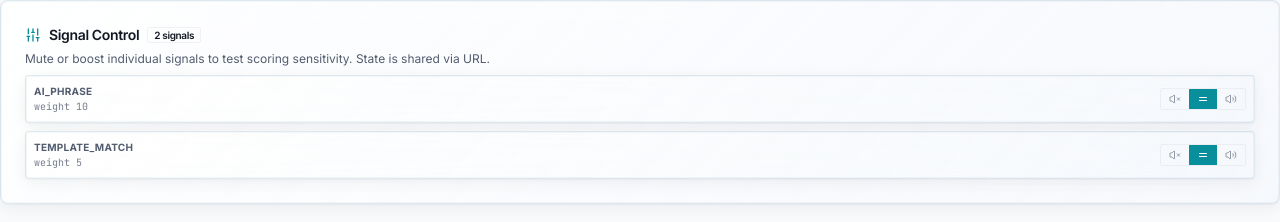
Test: SignalMuteBoostPanel what-if tooltips › shows just the mode label for the currently active button
Step 1. Hover over the button with test id "signal-mute-boost-ai_phrase-normal" → (1203, 99), box [1189,89,1217,109]
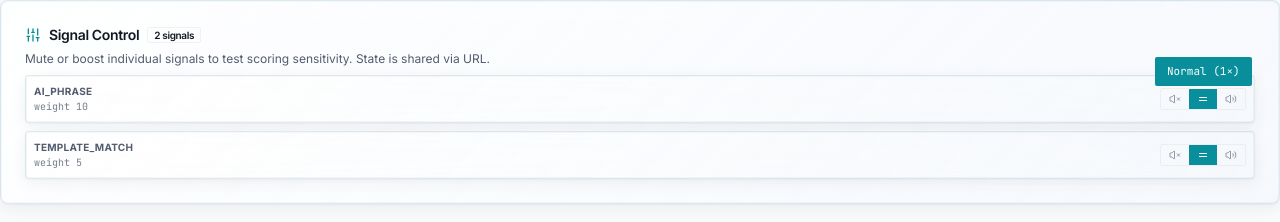
Result: the tooltip with test id "signal-whatif-tooltip-ai_phrase-normal" is shown at [1155,57,1252,86]
Result: the tooltip with test id "signal-whatif-tooltip-ai_phrase-normal" shows "Normal" at [1167,64,1240,78]
